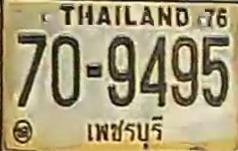0: (51, 34, 80, 106)
4: (140, 34, 167, 106)
5: (202, 36, 230, 107)
7: (17, 33, 46, 106)
9: (107, 35, 135, 106), (171, 36, 198, 106)
PBI: (85, 111, 164, 149)
